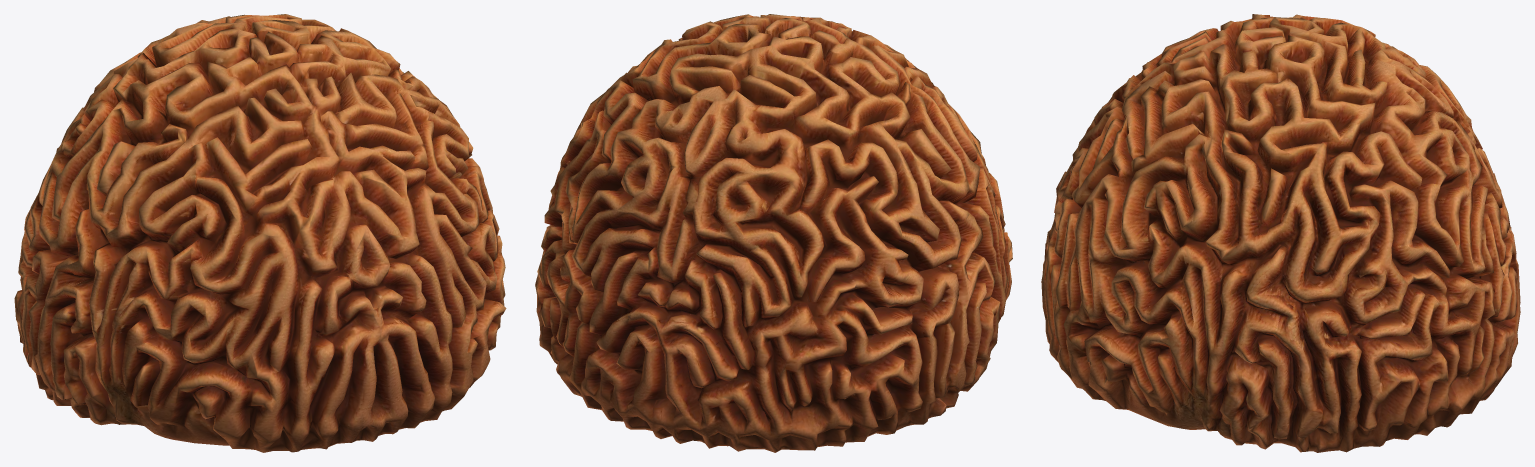
Rendered from brain.glb.
The picture shows the model from 3 angles, left to right: view 1: azimuth 30°, elevation 25°; view 2: azimuth 150°, elevation 25°; view 3: azimuth 270°, elevation 25°; orthographic projection. The views are drawn at different scales.
Visible parts, largest first — view 1: tripo_node_d38a59dc-a218-4e4b-bfd0-7c375a098938; view 2: tripo_node_d38a59dc-a218-4e4b-bfd0-7c375a098938; view 3: tripo_node_d38a59dc-a218-4e4b-bfd0-7c375a098938.
Part boxes in pixels (x1,y1,x2,y2): tripo_node_d38a59dc-a218-4e4b-bfd0-7c375a098938: (14, 14, 506, 452); tripo_node_d38a59dc-a218-4e4b-bfd0-7c375a098938: (535, 14, 1012, 452); tripo_node_d38a59dc-a218-4e4b-bfd0-7c375a098938: (1041, 14, 1520, 452).
Bounding box in the file's own units: 1 × 0.7769 × 1.
Materials: 1 (1 with a texture image).
